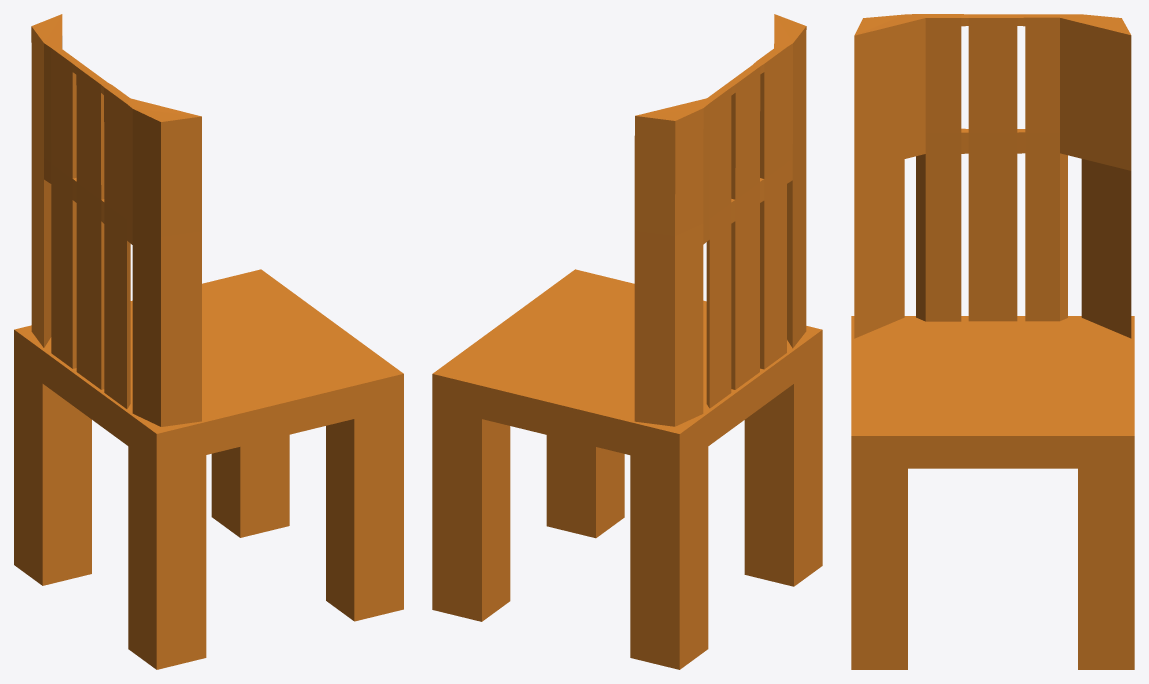
Rendered from stoelaa.fbx.
The picture shows the model from 3 angles, left to right: view 1: azimuth 30°, elevation 25°; view 2: azimuth 150°, elevation 25°; view 3: azimuth 270°, elevation 25°; orthographic projection.
Visible parts, largest first — view 1: Cube; view 2: Cube; view 3: Cube.
Part boxes in pixels (x1=…): Cube: x1=14, y1=14, x2=403, y2=669; Cube: x1=432, y1=14, x2=822, y2=669; Cube: x1=851, y1=14, x2=1134, y2=669.
Size of the model in its own units: 200 by 419 by 200.
